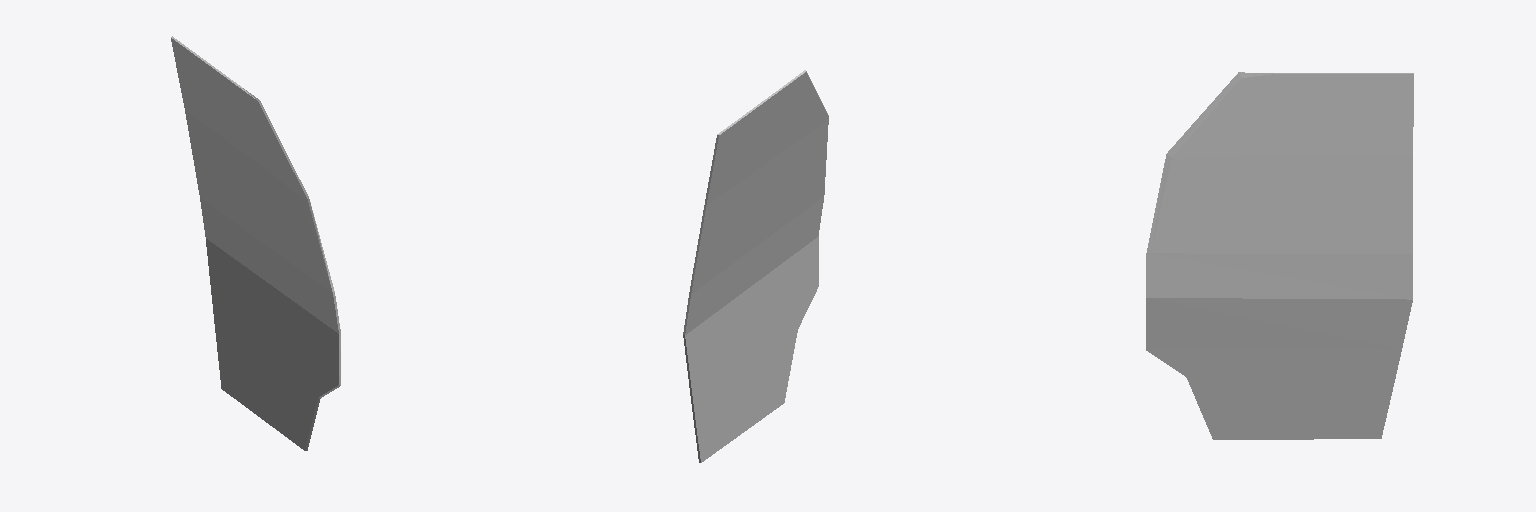
The model's file is van_frontdoor_L.obj.
3 views of the same model, side by side, from view 1: azimuth 30°, elevation 25°; view 2: azimuth 150°, elevation 25°; view 3: azimuth 270°, elevation 25° (orthographic).
Parts seen in each view (by area): view 1: FrontDoorLeft; view 2: FrontDoorLeft; view 3: FrontDoorLeft.
Part boxes in pixels (bbox=[...]): FrontDoorLeft: bbox=[171, 36, 340, 450]; FrontDoorLeft: bbox=[683, 70, 828, 462]; FrontDoorLeft: bbox=[1146, 72, 1413, 439].
Bounding box in the file's own units: 0.1804 × 1.65 × 1.15.